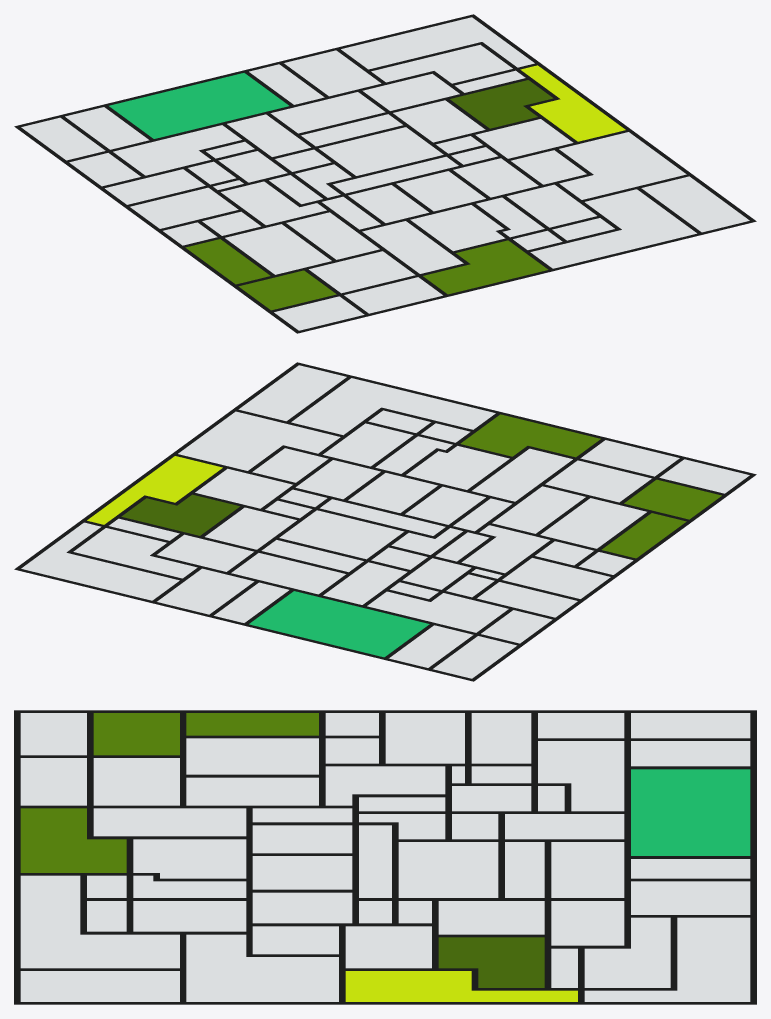
The model's file is Jalan.glb.
3 renders of one model, top to bottom at view 1: azimuth 30°, elevation 25°; view 2: azimuth 150°, elevation 25°; view 3: azimuth 270°, elevation 25°, orthographic. The views are drawn at different scales.
Visible parts, largest first — view 1: Plane001; view 2: Plane001; view 3: Plane001.
Part boxes in pixels (x1,y1,x2,y2): Plane001: (14,14,756,333); Plane001: (14,362,756,681); Plane001: (14,710,756,1004).
Bounding box in the file's own units: 32.03 × 1.17e-06 × 34.16.
Materials: 1 (1 with a texture image).
